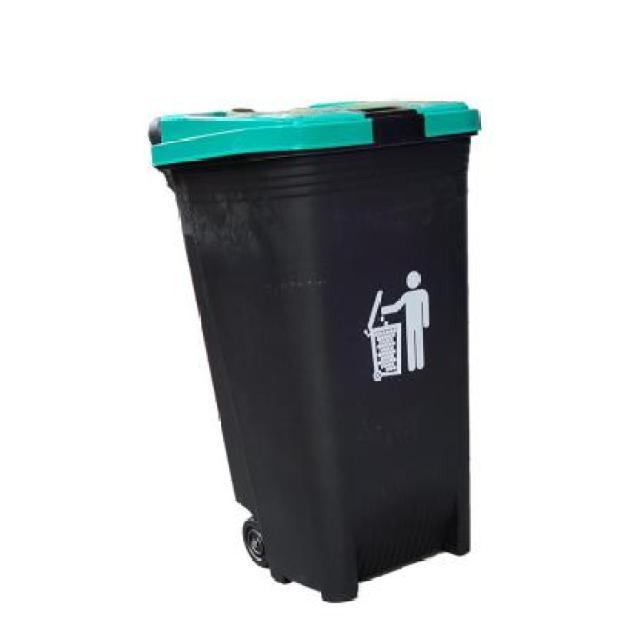garbage container: (136, 90, 510, 618)
